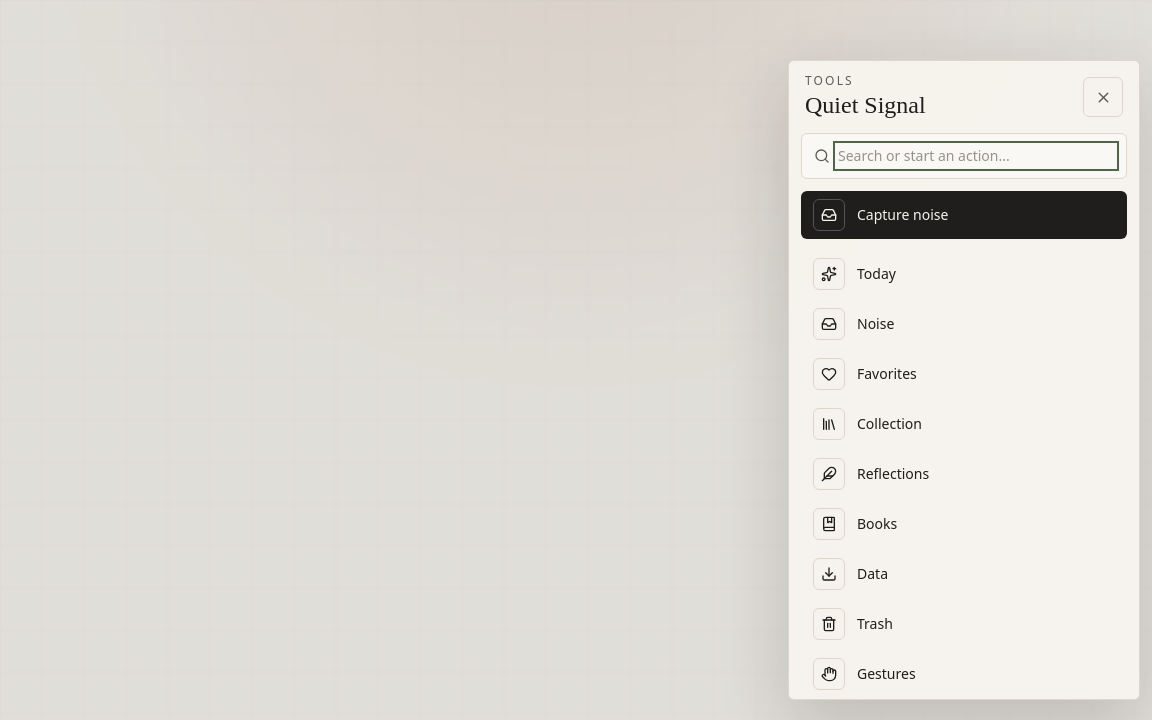
CommandDrawer › filtert die Navigationsziele nach der Suche
Type "trash" into the field labelled "Search or start an action..." at (976, 156), box [838,146,1114,166]
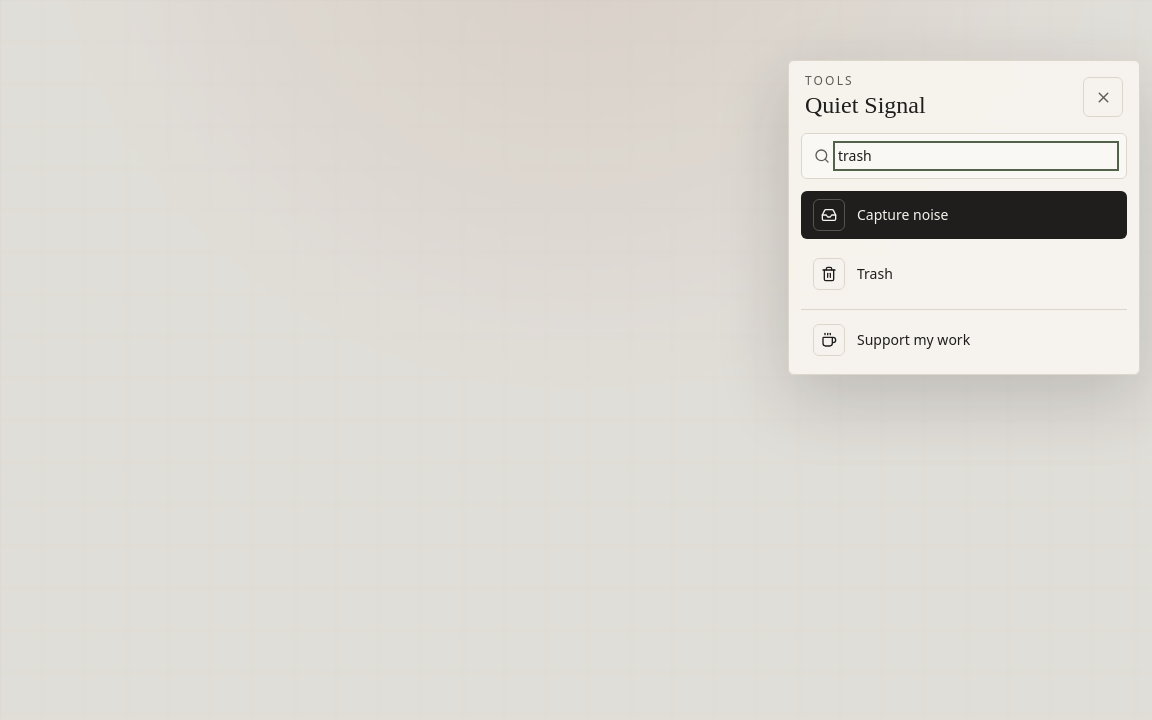
Expected: the link "Trash" is shown, [813,258,893,290]
Expected: the link "Today" is gone
